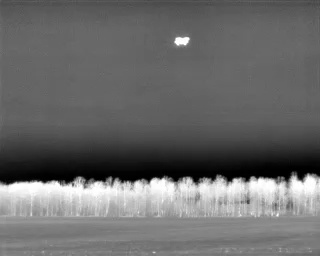DRONE: (170, 32, 194, 52)
